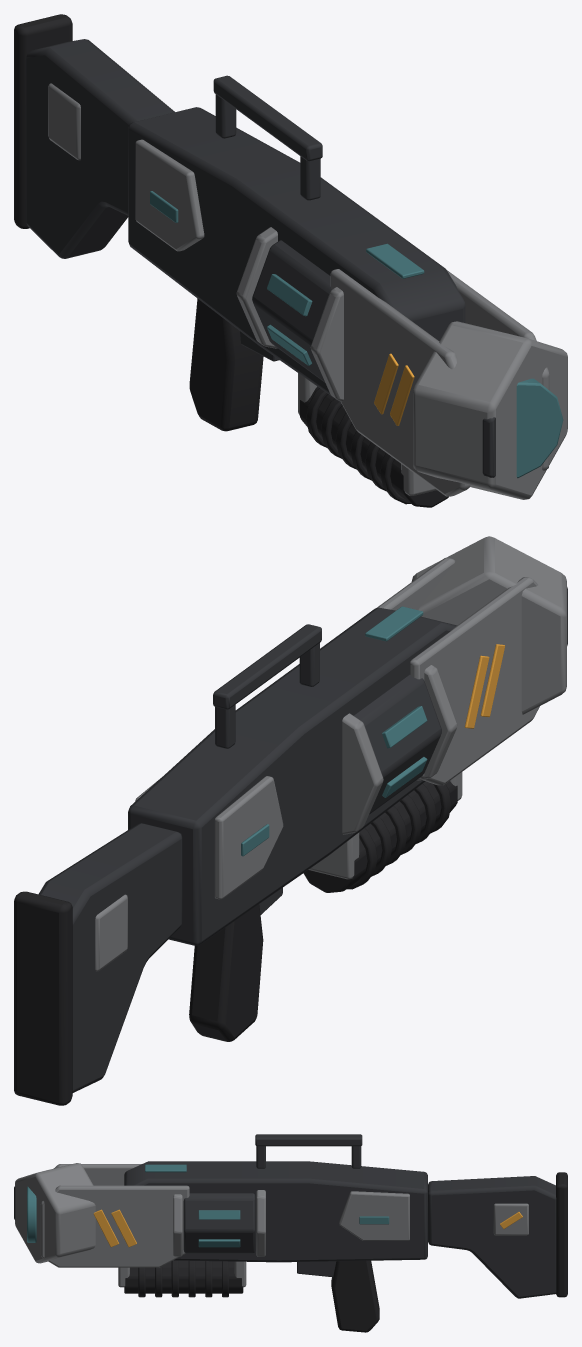
File: Weapon_NovaScatter.fbx
3 renders of one model, top to bottom at view 1: azimuth 30°, elevation 25°; view 2: azimuth 150°, elevation 25°; view 3: azimuth 270°, elevation 25°, orthographic. The views are drawn at different scales.
Visible parts, largest first — view 1: Body, Spinner_Drum, Glow; view 2: Body, Spinner_Drum, Glow; view 3: Body, Spinner_Drum, Glow.
Boxes of the visible parts, x1=… form: Body: x1=14, y1=14, x2=567, y2=507; Spinner_Drum: x1=252, y1=240, x2=331, y2=382; Glow: x1=150, y1=191, x2=563, y2=478; Body: x1=14, y1=536, x2=567, y2=1105; Spinner_Drum: x1=354, y1=675, x2=441, y2=814; Glow: x1=241, y1=606, x2=423, y2=856; Body: x1=14, y1=1134, x2=567, y2=1332; Spinner_Drum: x1=183, y1=1193, x2=255, y2=1253; Glow: x1=27, y1=1164, x2=389, y2=1242.
Size of the model in its own units: 0.1674 by 0.3574 by 0.9299.
